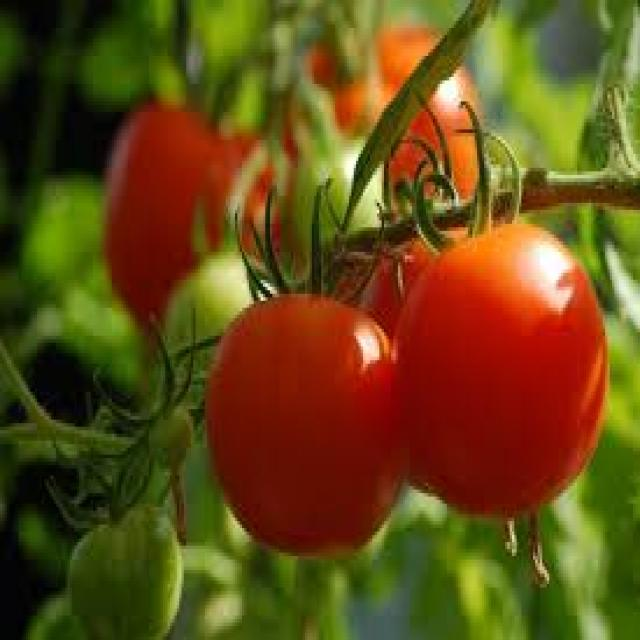tomato: (390, 218, 608, 511), (206, 291, 408, 558)
